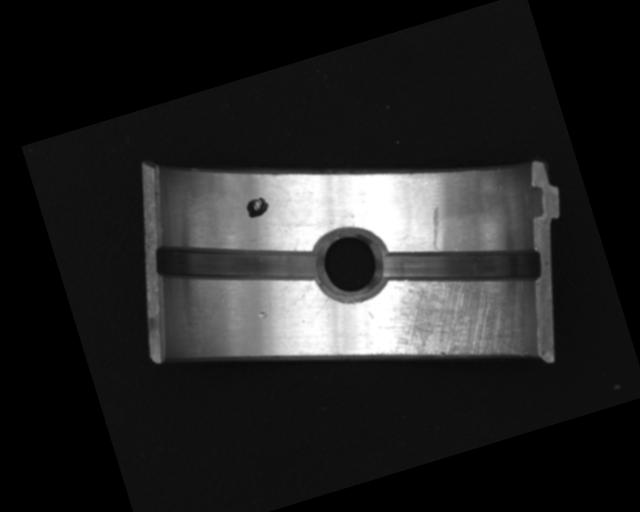blot: (242, 193, 272, 221)
bruise: (256, 308, 268, 321)
gap: (151, 203, 324, 323), (377, 211, 545, 321)
hole: (305, 218, 395, 310)
nick: (421, 205, 451, 254), (305, 295, 336, 324)
scratch: (365, 248, 543, 397)
